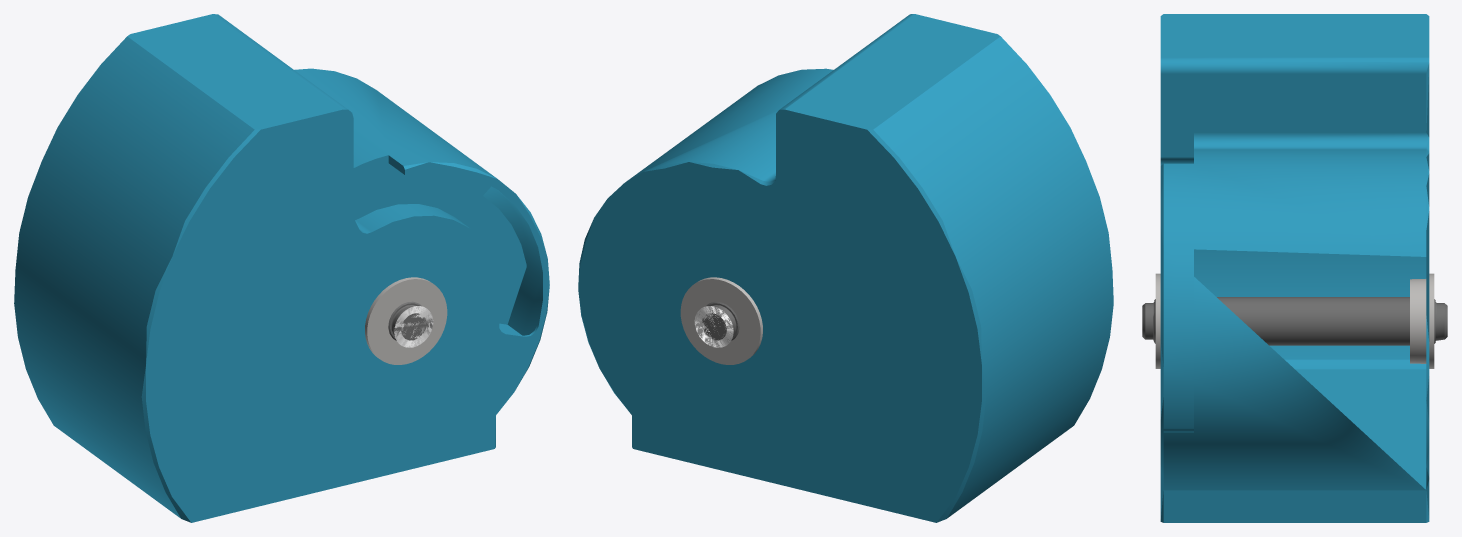
Rendered from shoulder_link.dae.
3 views of the same model, side by side, from view 1: azimuth 30°, elevation 25°; view 2: azimuth 150°, elevation 25°; view 3: azimuth 270°, elevation 25° (orthographic). The views are drawn at different scales.
Parts seen in each view (by area): view 1: FBXASC227FBXASC130FBXASC189FBXASC227FBXASC131FBXASC170FBXASC (×4); view 2: FBXASC227FBXASC130FBXASC189FBXASC227FBXASC131FBXASC170FBXASC (×4); view 3: FBXASC227FBXASC130FBXASC189FBXASC227FBXASC131FBXASC170FBXASC (×4).
Boxes of the visible parts, bbox=[...] form: FBXASC227FBXASC130FBXASC189FBXASC227FBXASC131FBXASC170FBXASC (×4): bbox=[14, 14, 549, 522]; FBXASC227FBXASC130FBXASC189FBXASC227FBXASC131FBXASC170FBXASC (×4): bbox=[578, 14, 1113, 522]; FBXASC227FBXASC130FBXASC189FBXASC227FBXASC131FBXASC170FBXASC (×4): bbox=[1142, 14, 1447, 522].
Size of the model in its own units: 0.0794 by 0.05 by 0.07.
